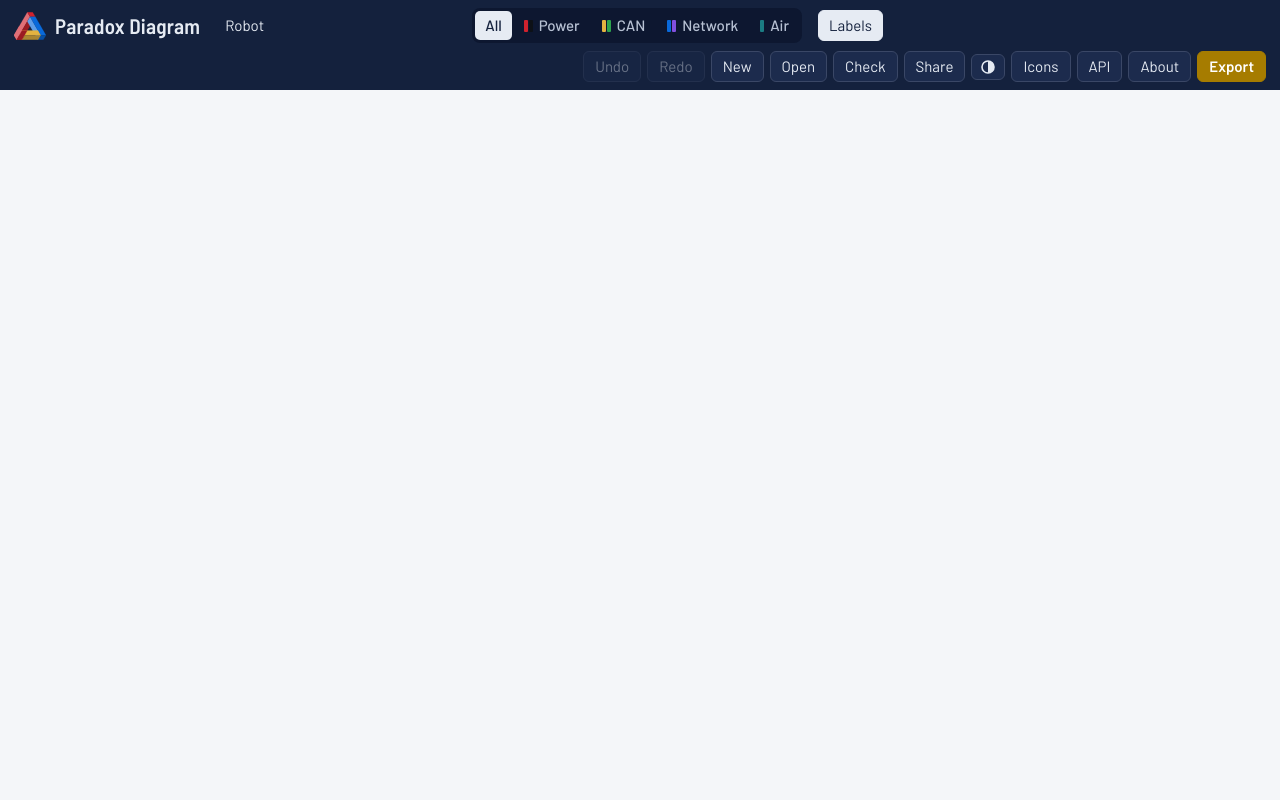
a failed share shows the error
This screenshot has width=1280, height=800.
Click the button "Share": point(934, 66) [904,51,965,82]
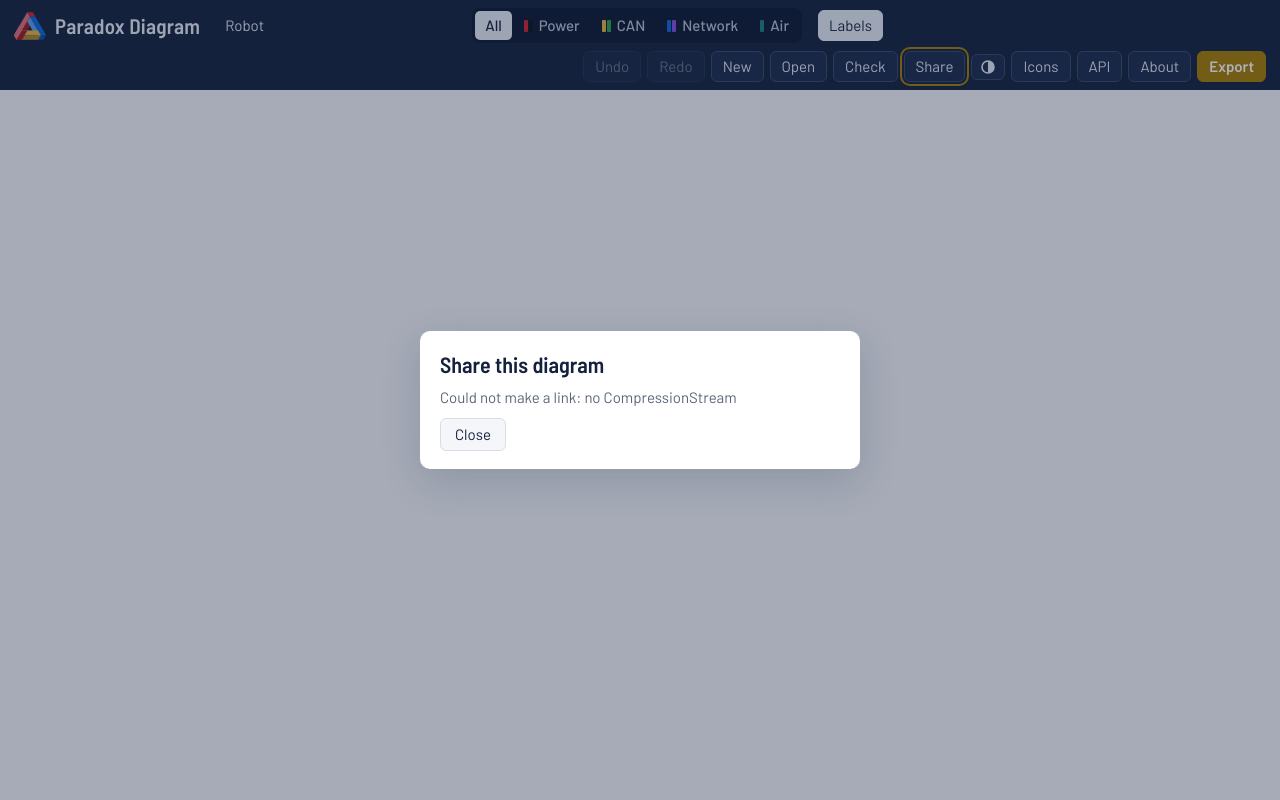
Expected: the message shows "no CompressionStream", [584,388,737,406]
